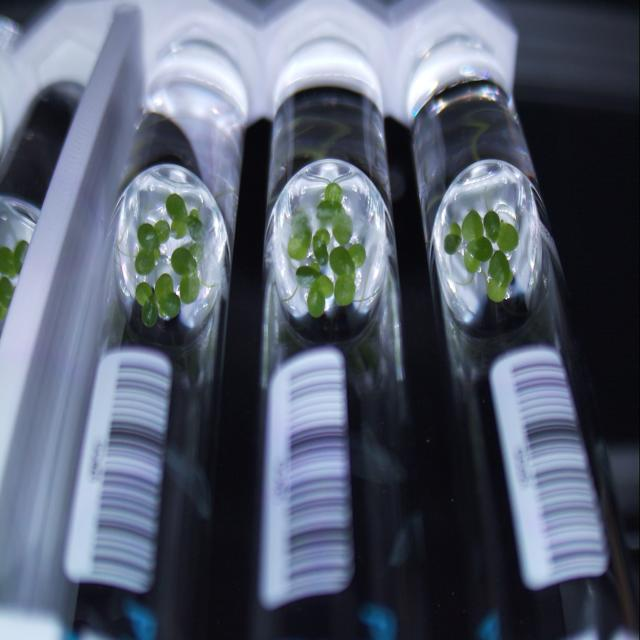Lemna-Gibba: (135, 274, 180, 327), (329, 243, 366, 305), (171, 242, 204, 304), (296, 264, 334, 317), (461, 210, 492, 274), (135, 220, 170, 275), (166, 193, 205, 242), (484, 210, 519, 252), (486, 250, 512, 302), (316, 182, 342, 225), (288, 212, 311, 260), (332, 210, 352, 245), (312, 228, 330, 265), (444, 222, 461, 255)
